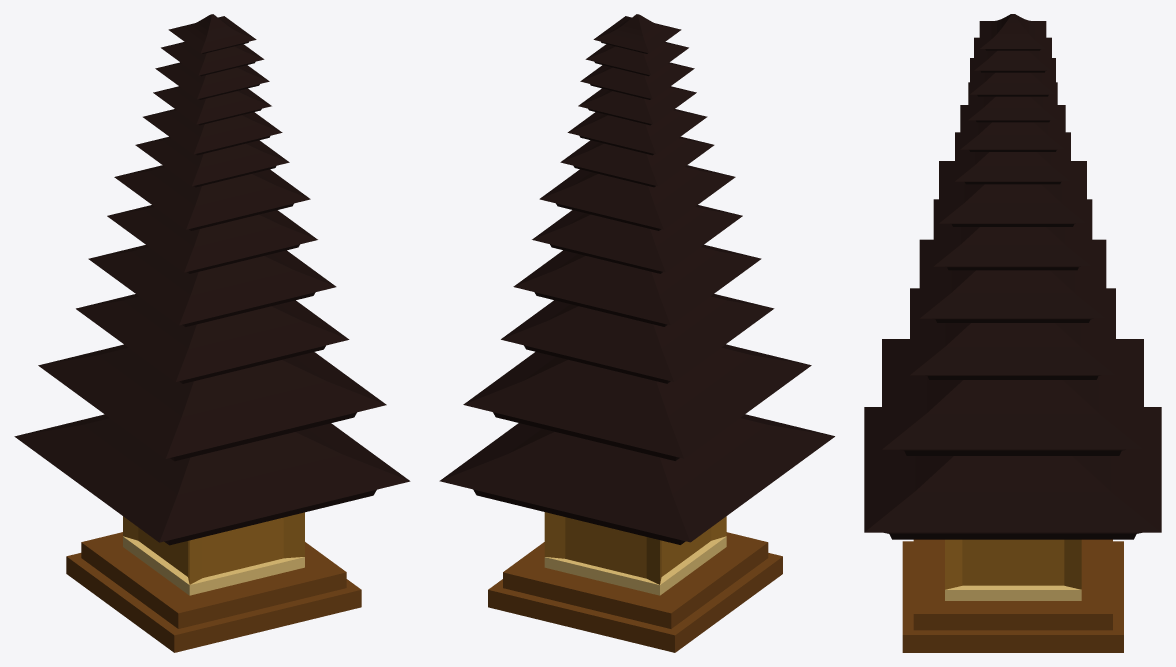
The model's file is pura-bali.gltf.
3 renders of one model, left to right at view 1: azimuth 30°, elevation 25°; view 2: azimuth 150°, elevation 25°; view 3: azimuth 270°, elevation 25°, orthographic. The views are drawn at different scales.
Visible parts, largest first — view 1: Cube.004, Cube.006, Cube.008, Cube.010, Cube.001, Cube.012, Cube, Cube.014, Cube.003, Cube.016, Cube.018, Cube.002 (+4 smaller); view 2: Cube.004, Cube.006, Cube.008, Cube.010, Cube.001, Cube.012, Cube, Cube.014, Cube.003, Cube.016, Cube.018, Cube.002 (+4 smaller); view 3: Cube.004, Cube.006, Cube.008, Cube.010, Cube.001, Cube.012, Cube, Cube.014, Cube.003, Cube.016, Cube.018, Cube.020 (+4 smaller).
Boxes of the visible parts, x1=… form: Cube.004: x1=14, y1=414, x2=410, y2=545; Cube.006: x1=38, y1=344, x2=386, y2=461; Cube.008: x1=76, y1=294, x2=349, y2=383; Cube.010: x1=88, y1=245, x2=336, y2=326; Cube.001: x1=81, y1=532, x2=346, y2=628; Cube.012: x1=107, y1=205, x2=317, y2=273; Cube: x1=66, y1=553, x2=361, y2=652; Cube.014: x1=114, y1=165, x2=310, y2=230; Cube.003: x1=123, y1=512, x2=304, y2=584; Cube.016: x1=135, y1=136, x2=289, y2=187; Cube.018: x1=143, y1=109, x2=282, y2=155; Cube.002: x1=123, y1=536, x2=304, y2=595; Cube.004: x1=439, y1=414, x2=834, y2=544; Cube.006: x1=463, y1=344, x2=811, y2=460; Cube.008: x1=501, y1=294, x2=774, y2=383; Cube.010: x1=513, y1=244, x2=761, y2=326; Cube.001: x1=503, y1=532, x2=768, y2=628; Cube.012: x1=532, y1=205, x2=742, y2=273; Cube: x1=488, y1=553, x2=782, y2=652; Cube.014: x1=539, y1=165, x2=735, y2=230; Cube.003: x1=544, y1=512, x2=726, y2=584; Cube.016: x1=560, y1=136, x2=714, y2=187; Cube.018: x1=567, y1=109, x2=707, y2=155; Cube.002: x1=544, y1=536, x2=726, y2=595; Cube.004: x1=864, y1=407, x2=1161, y2=539; Cube.006: x1=882, y1=339, x2=1143, y2=455; Cube.008: x1=910, y1=288, x2=1115, y2=379; Cube.010: x1=919, y1=239, x2=1106, y2=322; Cube.001: x1=913, y1=539, x2=1112, y2=630; Cube.012: x1=933, y1=199, x2=1092, y2=270; Cube: x1=902, y1=541, x2=1123, y2=652; Cube.014: x1=939, y1=161, x2=1086, y2=226; Cube.003: x1=945, y1=539, x2=1081, y2=589; Cube.016: x1=955, y1=132, x2=1070, y2=184; Cube.018: x1=960, y1=105, x2=1065, y2=151; Cube.020: x1=968, y1=82, x2=1057, y2=122.
Size of the model in its own units: 28.04 by 61.39 by 28.04.
